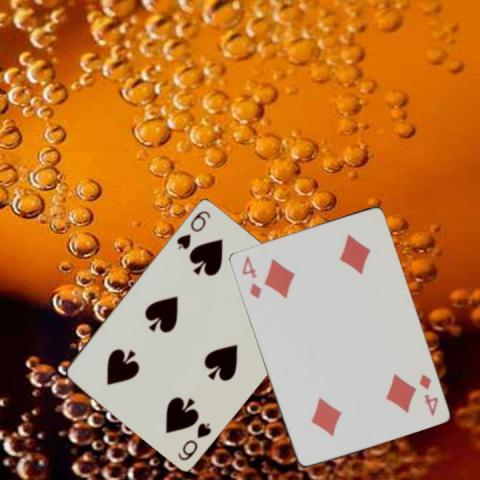4d: (238, 253, 262, 300), (416, 371, 440, 417)
6s: (173, 206, 212, 250), (174, 419, 213, 462)
